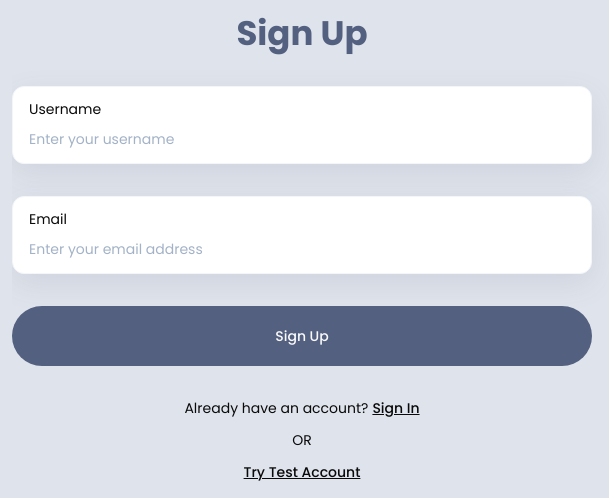
it: AuthForm component › Form submission › disables submit button while loading
In the field labelled "Email": (302, 249) [29,229,575,269], type "test@example.com"
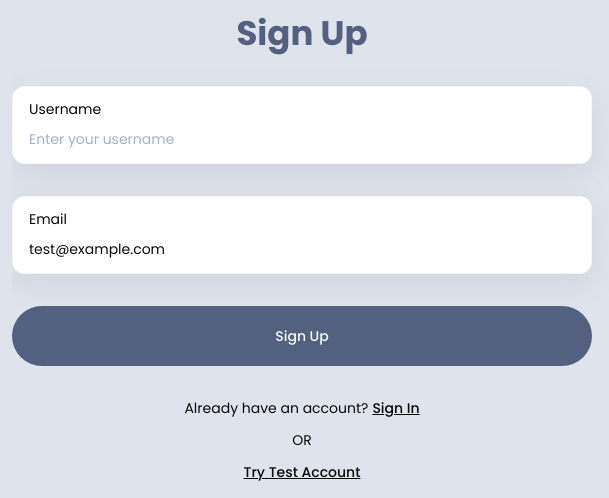
In the field labelled "Username": (302, 139) [29,119,575,159], type "testuser"
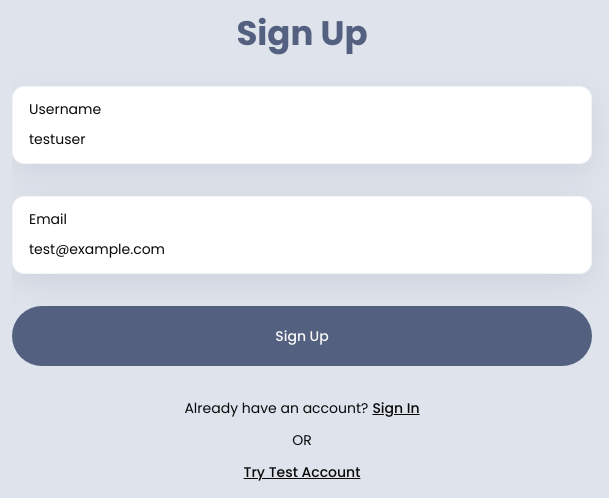
Click the button with aria-label "submit form": (302, 336) [12,306,592,366]
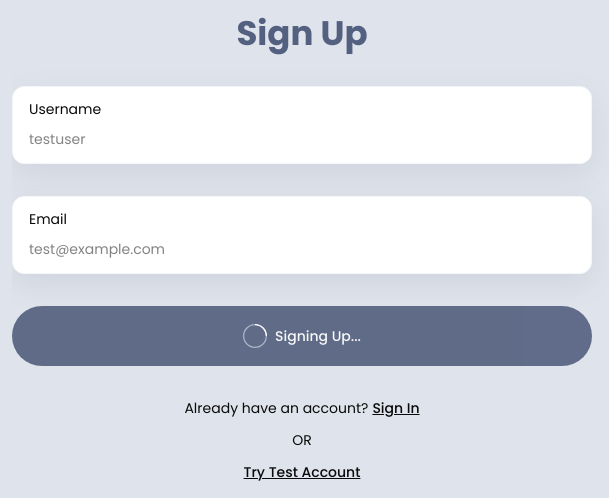
Expected: the button with aria-label "submit form" is disabled, [12,306,592,366]
